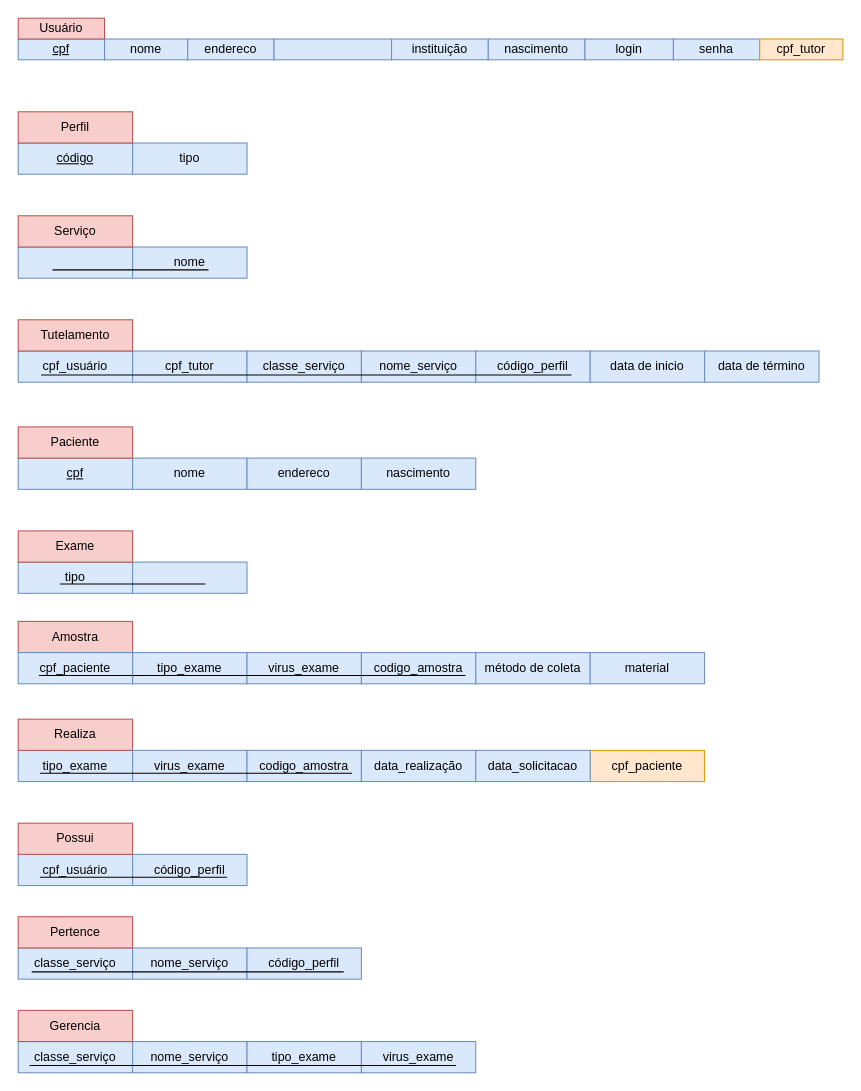
The diagram is 861 pixels wide and 1091 high, and some of its shapes have lost their labels. The centre of each missing label's shape, as x and y in pixels:
"area de pesquisa" belongs at (332,49).
"classe" belongs at (75,262).
"virus" belongs at (189,577).
